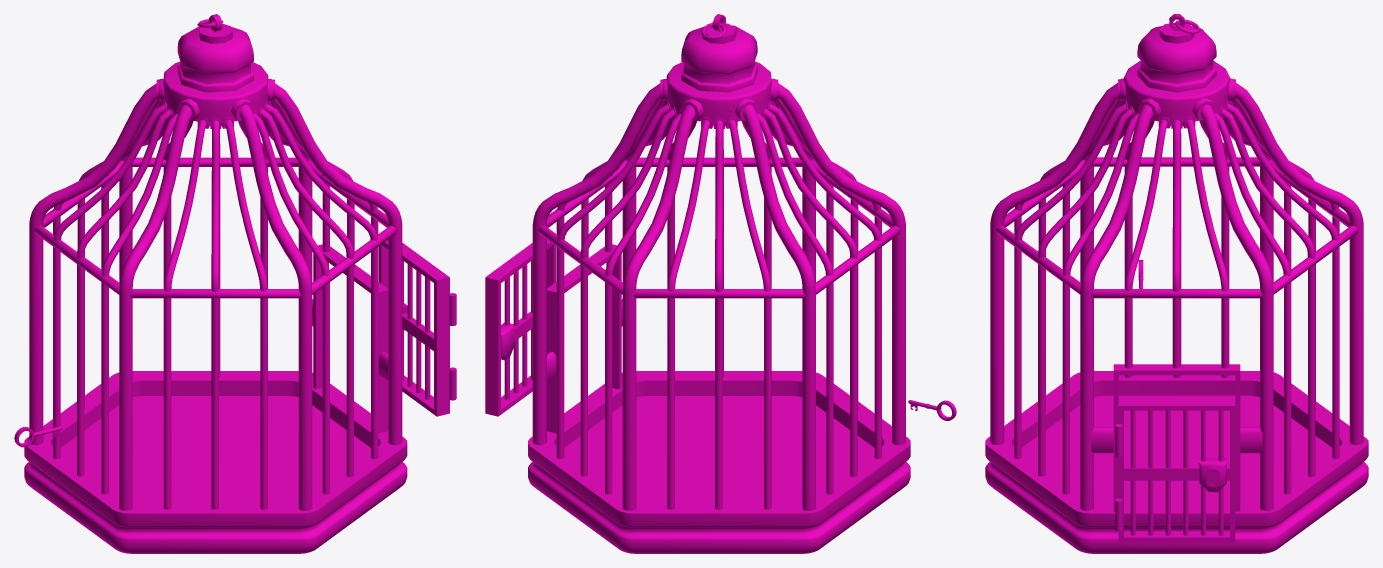
The model's file is SM_CageKey.fbx.
3 renders of one model, left to right at view 1: azimuth 30°, elevation 25°; view 2: azimuth 150°, elevation 25°; view 3: azimuth 270°, elevation 25°, orthographic.
Visible parts, largest first — view 1: SM_Cage, SM_CageDoor; view 2: SM_Cage, SM_CageDoor; view 3: SM_Cage, SM_CageDoor.
Part boxes in pixels (<box>): SM_Cage: <box>24,14,407,553</box>; SM_CageDoor: <box>378,240,456,416</box>; SM_Cage: <box>528,14,910,553</box>; SM_CageDoor: <box>485,240,556,416</box>; SM_Cage: <box>985,14,1368,553</box>; SM_CageDoor: <box>1115,399,1235,542</box>.
Size of the model in its own units: 759 by 795 by 586.
